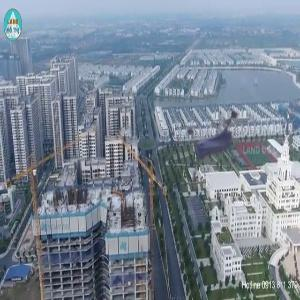drone: (171, 88, 263, 180)
